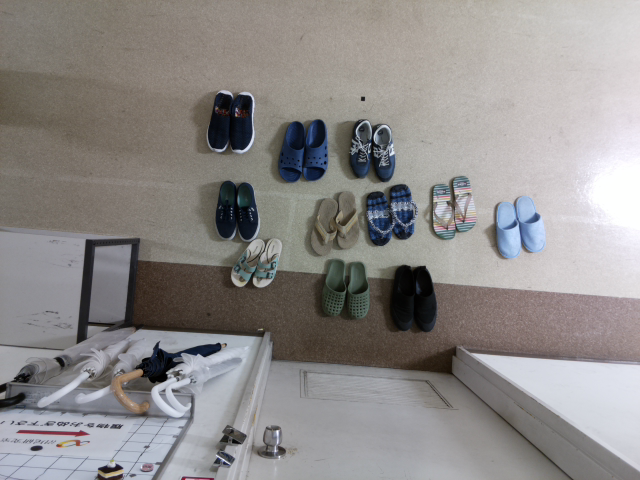Copy of Copy of Copy of Copy of Copy of Copy of Copy of Copy of Copy of Copy of: (407, 262, 440, 338), (385, 261, 417, 337), (361, 185, 395, 251), (328, 186, 362, 252), (208, 175, 242, 241), (317, 254, 350, 321), (339, 257, 372, 324), (386, 178, 420, 243), (305, 192, 339, 257), (227, 234, 267, 289), (232, 177, 265, 243), (248, 233, 284, 290)
Copy of Copy of Copy of Copy of Copy of Copy of Copy of Copy of Copy of shoe: (513, 193, 546, 258)
Copy of Copy of Copy of Copy of Copy of Copy of Copy of Copy of shoe: (491, 196, 525, 262)
Copy of Copy of Copy of Copy of Copy of Copy of Copy of shoe: (427, 179, 460, 245)
Copy of Copy of Copy of Copy of Copy of Copy of shoe: (448, 170, 482, 236)
Copy of Copy of Copy of Copy of Copy of shoe: (367, 120, 401, 186)
Copy of Copy of Copy of Copy of shoe: (341, 116, 375, 182)
Copy of Copy of Copy of shoe: (297, 118, 331, 184)
Copy of Copy of shoe: (274, 119, 308, 185)
Copy of shoe: (227, 88, 257, 155)
shoe: (203, 87, 233, 156)
